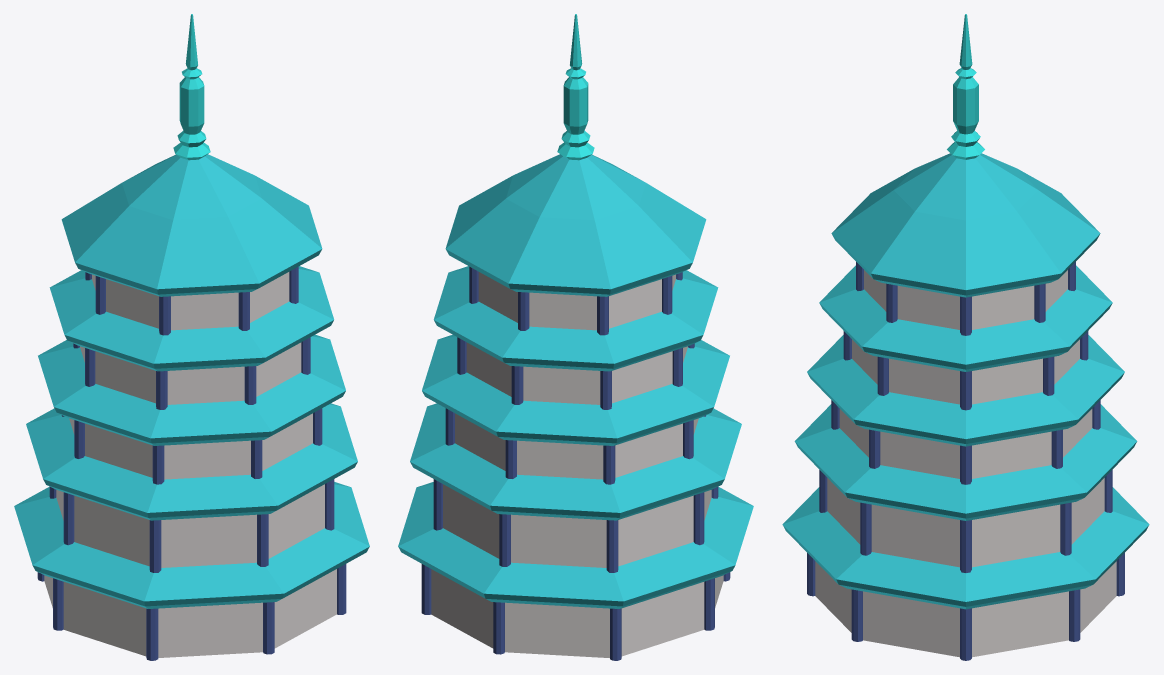
The model's file is 雷峰塔2.fbx.
The picture shows the model from 3 angles, left to right: view 1: azimuth 30°, elevation 25°; view 2: azimuth 150°, elevation 25°; view 3: azimuth 270°, elevation 25°; orthographic projection.
Visible parts, largest first — view 1: 放样_3_3, 放样_5_11, 放样_10, 放样_1_10, 放样_2_11, 放样_11, 放样_1_11, 放样_2_12, 放样_4_3, 放样_3_4, 放样_4_2, 放样_2_5 (+5 smaller); view 2: 放样_3_3, 放样_5_11, 放样_10, 放样_1_10, 放样_2_11, 放样_11, 放样_1_11, 放样_2_12, 放样_4_3, 放样_3_4, 放样_4_2, 放样_5_4 (+6 smaller); view 3: 放样_3_3, 放样_5_11, 放样_10, 放样_1_10, 放样_2_11, 放样_11, 放样_1_11, 放样_2_12, 放样_4_3, 放样_3_4, 放样_4_2, 放样_8 (+5 smaller).
Part boxes in pixels (<box>): 放样_3_3: <box>61,154,322,296</box>; 放样_5_11: <box>14,482,369,608</box>; 放样_10: <box>26,403,357,520</box>; 放样_1_10: <box>38,334,345,445</box>; 放样_2_11: <box>49,266,334,371</box>; 放样_11: <box>44,569,336,657</box>; 放样_1_11: <box>56,484,324,567</box>; 放样_2_12: <box>69,413,312,479</box>; 放样_4_3: <box>80,342,301,404</box>; 放样_3_4: <box>92,272,289,330</box>; 放样_4_2: <box>173,14,210,160</box>; 放样_2_5: <box>149,520,161,572</box>; 放样_3_3: <box>445,154,706,296</box>; 放样_5_11: <box>398,482,753,608</box>; 放样_10: <box>410,403,741,520</box>; 放样_1_10: <box>422,334,729,445</box>; 放样_2_11: <box>433,266,718,371</box>; 放样_11: <box>431,569,723,657</box>; 放样_1_11: <box>443,484,711,567</box>; 放样_2_12: <box>455,413,698,479</box>; 放样_4_3: <box>466,342,687,404</box>; 放样_3_4: <box>478,272,675,330</box>; 放样_4_2: <box>557,14,594,160</box>; 放样_5_4: <box>606,520,618,572</box>; 放样_3_3: <box>831,153,1100,297</box>; 放样_5_11: <box>782,487,1149,609</box>; 放样_10: <box>794,404,1137,520</box>; 放样_1_10: <box>807,335,1124,446</box>; 放样_2_11: <box>819,265,1112,371</box>; 放样_11: <box>815,561,1116,657</box>; 放样_1_11: <box>827,478,1104,567</box>; 放样_2_12: <box>839,409,1092,478</box>; 放样_4_3: <box>852,339,1079,404</box>; 放样_3_4: <box>864,270,1067,329</box>; 放样_4_2: <box>947,14,984,159</box>; 放样_8: <box>960,520,971,572</box>.
Size of the model in its own units: 120 by 209 by 120.
